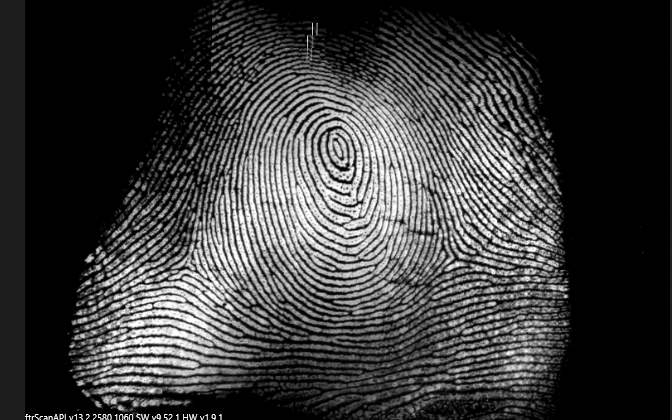deltas: (156, 241, 222, 292), (423, 226, 482, 277)
nucleo: (291, 113, 385, 196)
